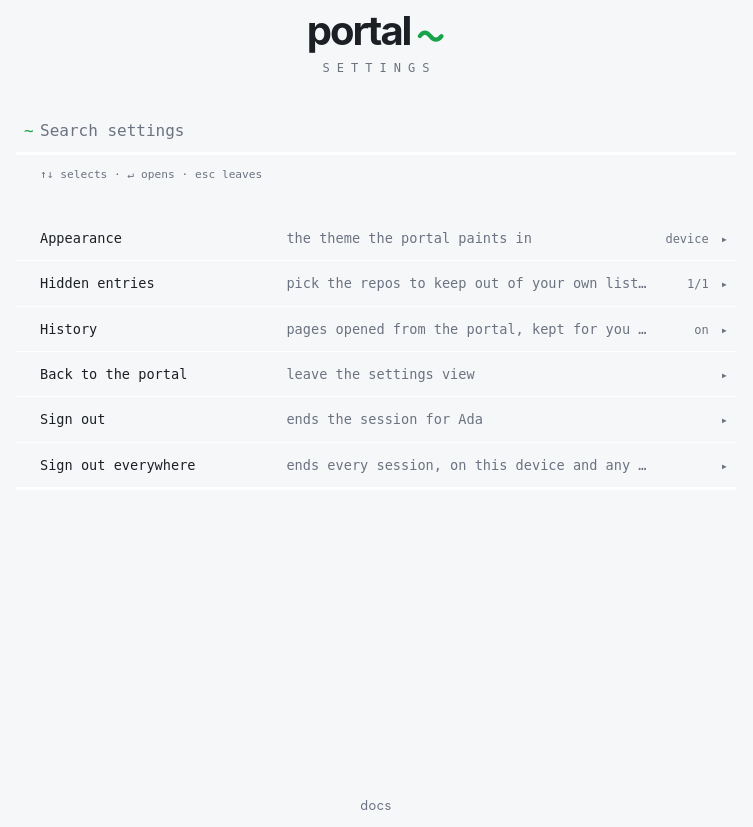
Test: the history section › reads the kept pages only once the section is opened
The image size is (753, 827).
expect the list item "Appearance the theme the portal paints in device ▸" is shown: met, box [40,230,728,246]
What coordinates should you click on to do the following:
click the list item that starts with "History"
I would click on:
 (376, 328)
Its box is [16,306,736,351].
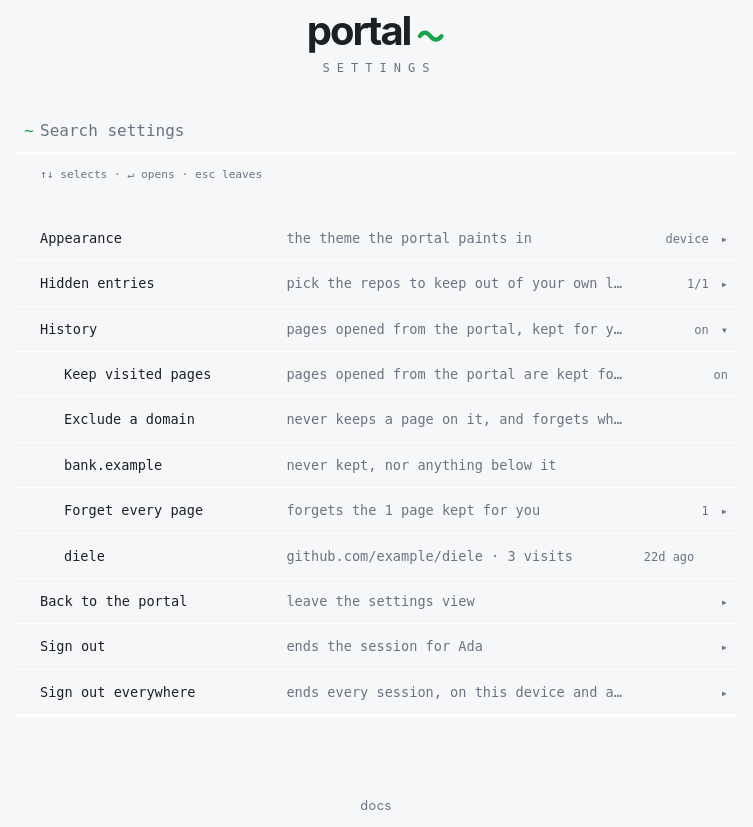
expect the number of "SettingsItemRow" components is 2: met, box [16,442,736,487]; [16,532,736,578]
